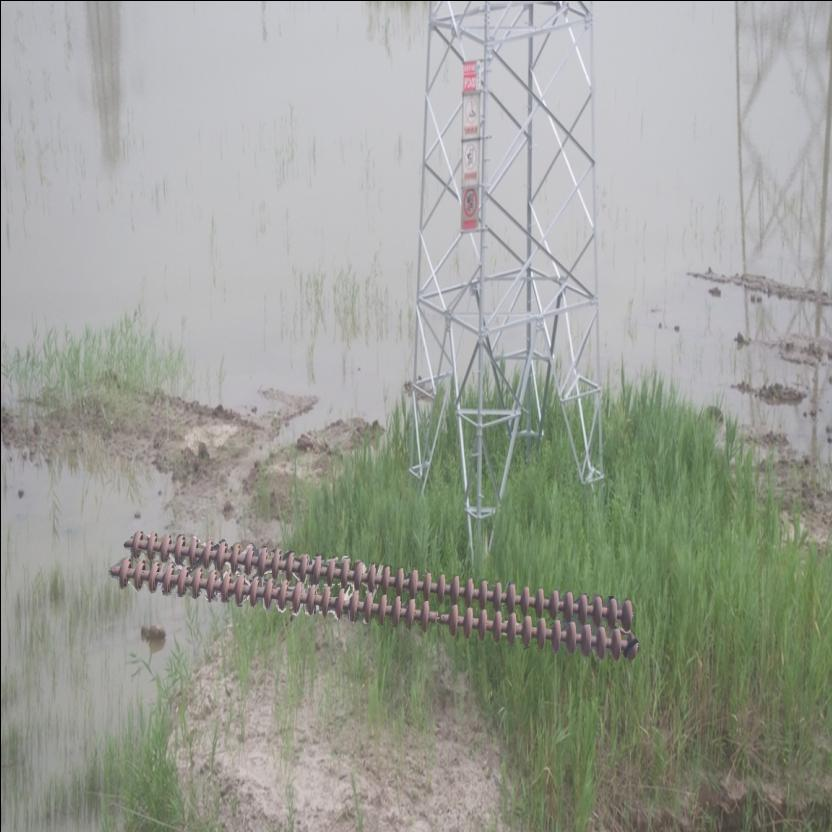defect: (416, 594, 466, 636)
